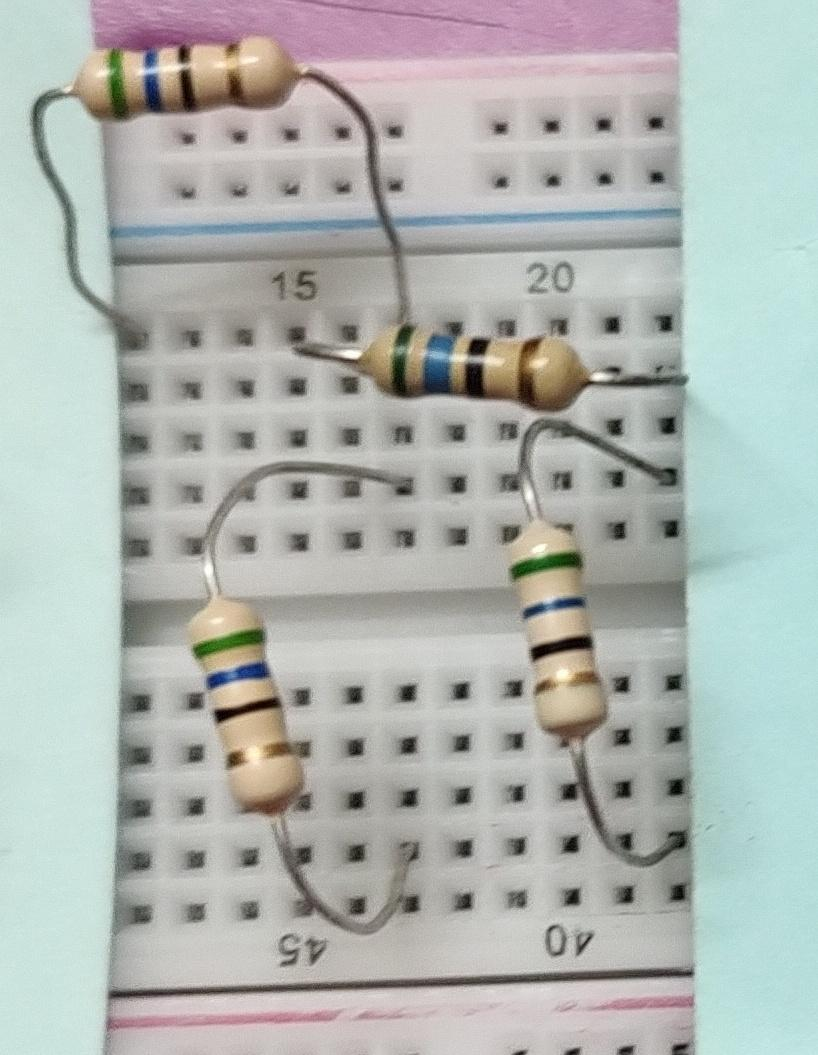resistor: (169, 579, 312, 838), (485, 511, 619, 760), (57, 31, 341, 137), (351, 311, 597, 421)
